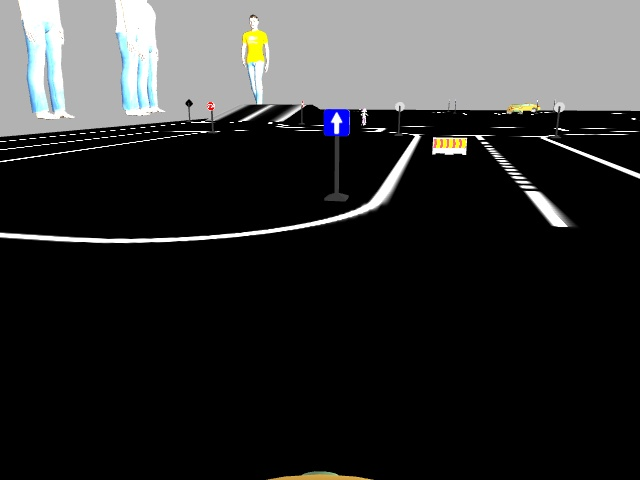ClosedRoadStand: (432, 137, 465, 153)
OneWay: (323, 111, 349, 136)
